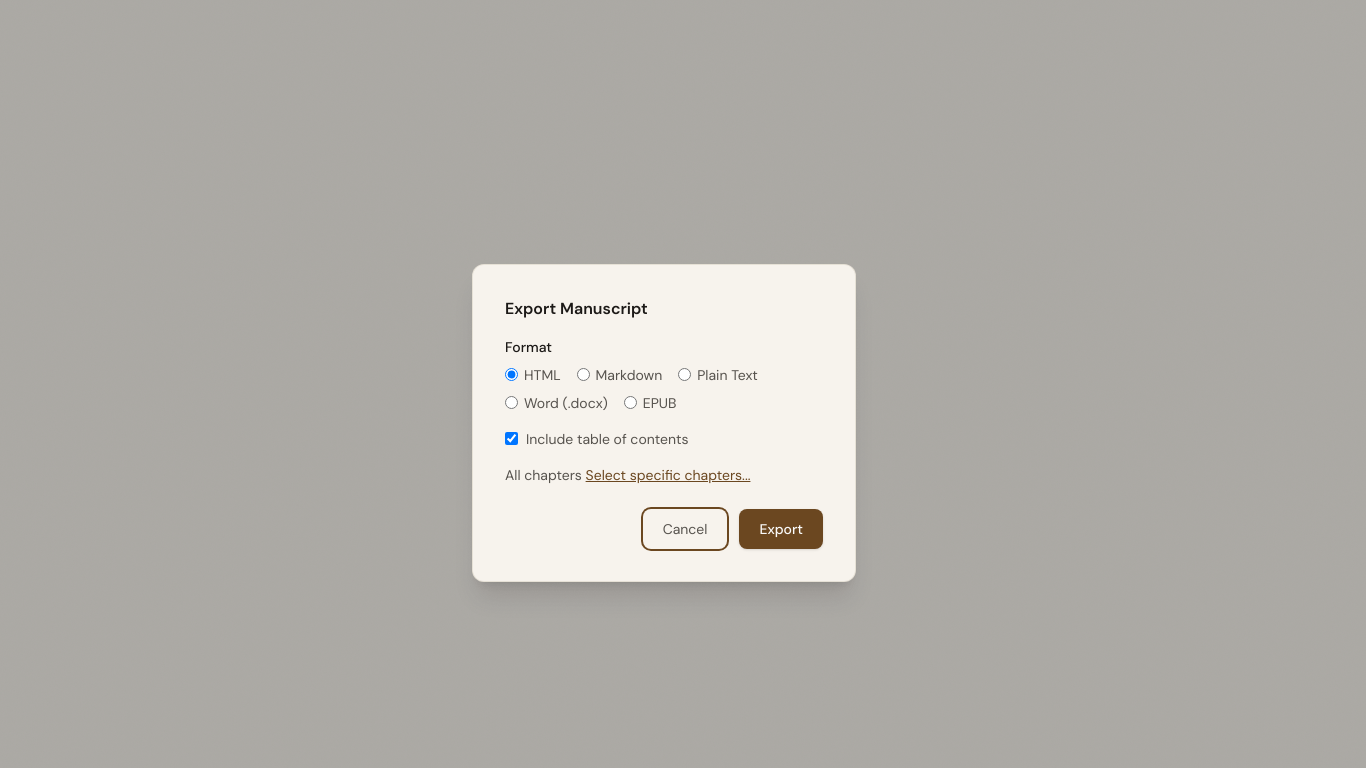
Scenario: ExportDialog › shows chapter checklist when clicking select specific
The image size is (1366, 768).
Click the button "Select specific chapters...": (668, 475) [586,465,750,485]
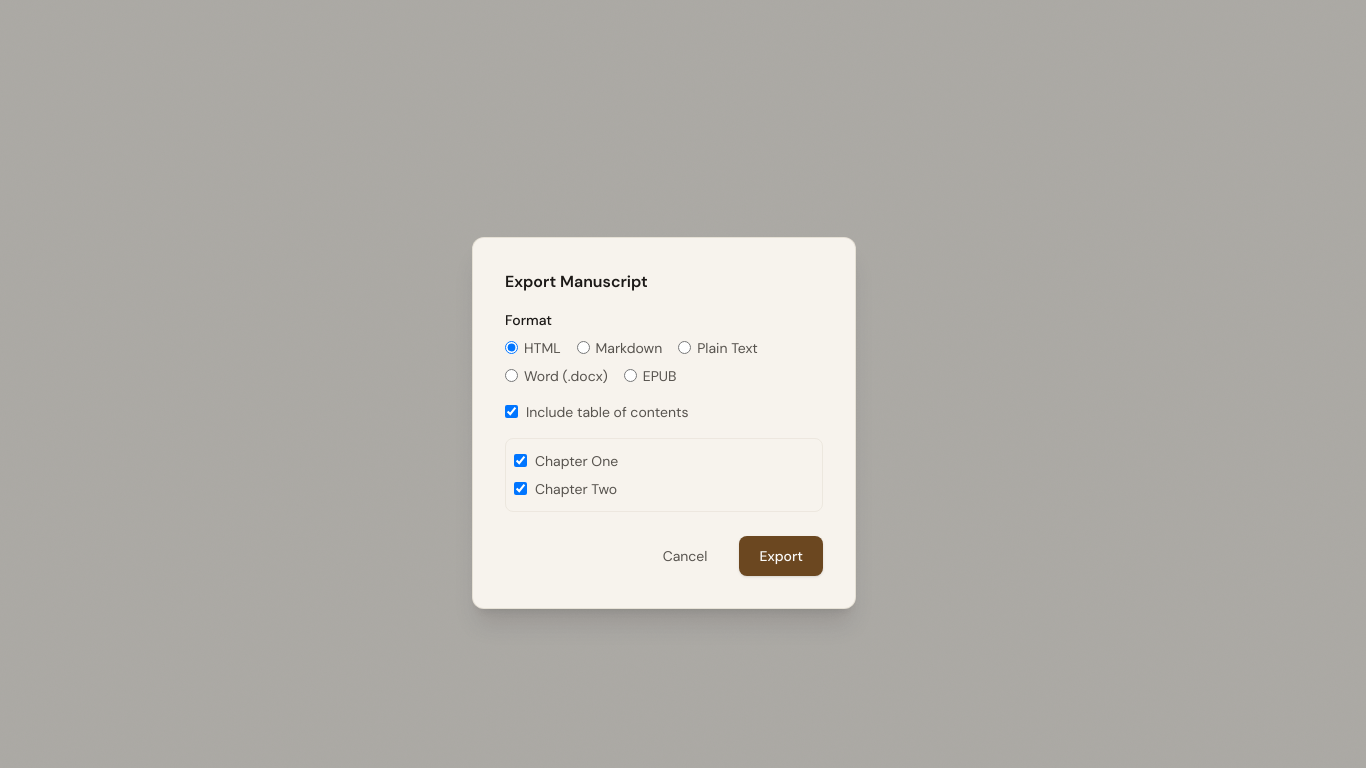
Result: the checkbox labelled "Chapter One" is shown at [514,454,527,467]
Result: the checkbox labelled "Chapter Two" is shown at [514,482,527,495]
